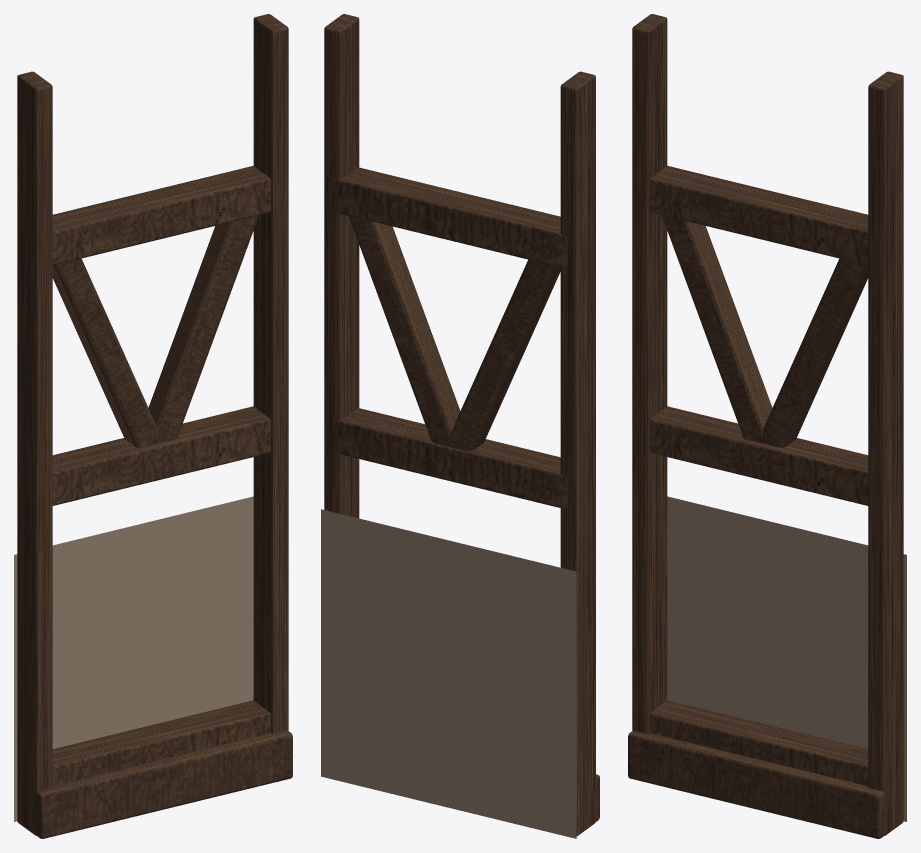
Rendered from appearance.glb.
3 views of the same model, side by side, from view 1: azimuth 30°, elevation 25°; view 2: azimuth 150°, elevation 25°; view 3: azimuth 330°, elevation 25° (orthographic).
Visible parts, largest first — view 1: Surface, LeftPost, RightPost, TimberCap, UpperRail, MiddleRail, RightBrace, LowerRail, LeftBrace; view 2: Surface, LeftPost, RightPost, UpperRail, MiddleRail, RightBrace, LeftBrace; view 3: Surface, RightPost, LeftPost, TimberCap, UpperRail, MiddleRail, LeftBrace, LowerRail, RightBrace.
Part boxes in pixels (box(x1,y1,x2,y2)): Surface: box(14, 496, 253, 821); LeftPost: box(17, 71, 52, 835); RightPost: box(253, 14, 288, 733); TimberCap: box(36, 731, 292, 838); UpperRail: box(52, 166, 270, 265); MiddleRail: box(52, 406, 270, 505); RightBrace: box(148, 215, 258, 442); LowerRail: box(52, 700, 270, 785); LeftBrace: box(52, 258, 160, 447); Surface: box(321, 509, 576, 838); LeftPost: box(560, 71, 595, 836); RightPost: box(324, 14, 359, 518); UpperRail: box(332, 167, 567, 268); MiddleRail: box(332, 408, 567, 508); RightBrace: box(349, 216, 460, 447); LeftBrace: box(450, 259, 560, 451); Surface: box(667, 496, 906, 821); RightPost: box(868, 71, 903, 835); LeftPost: box(632, 14, 667, 733); TimberCap: box(628, 731, 884, 838); UpperRail: box(650, 166, 868, 265); MiddleRail: box(650, 406, 868, 505); LeftBrace: box(662, 215, 772, 442); LowerRail: box(650, 700, 868, 785); RightBrace: box(760, 258, 868, 447).
Bounding box in the file's own units: 1 × 2.8 × 0.175.
Materials: 2 (2 with a texture image).
